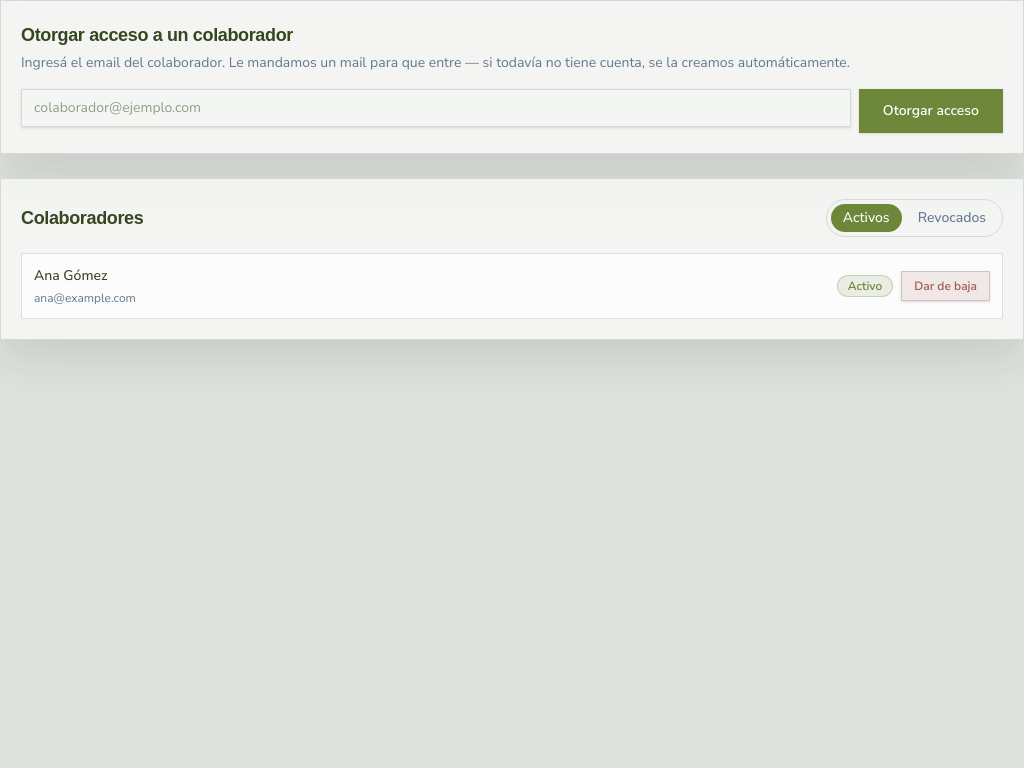
Test case: TeamSection (KAN-306) › un error al revocar se muestra en la fila sin romper el resto de la lista
Click the button "Dar de baja".
click(946, 286)  # box [901, 271, 990, 301]
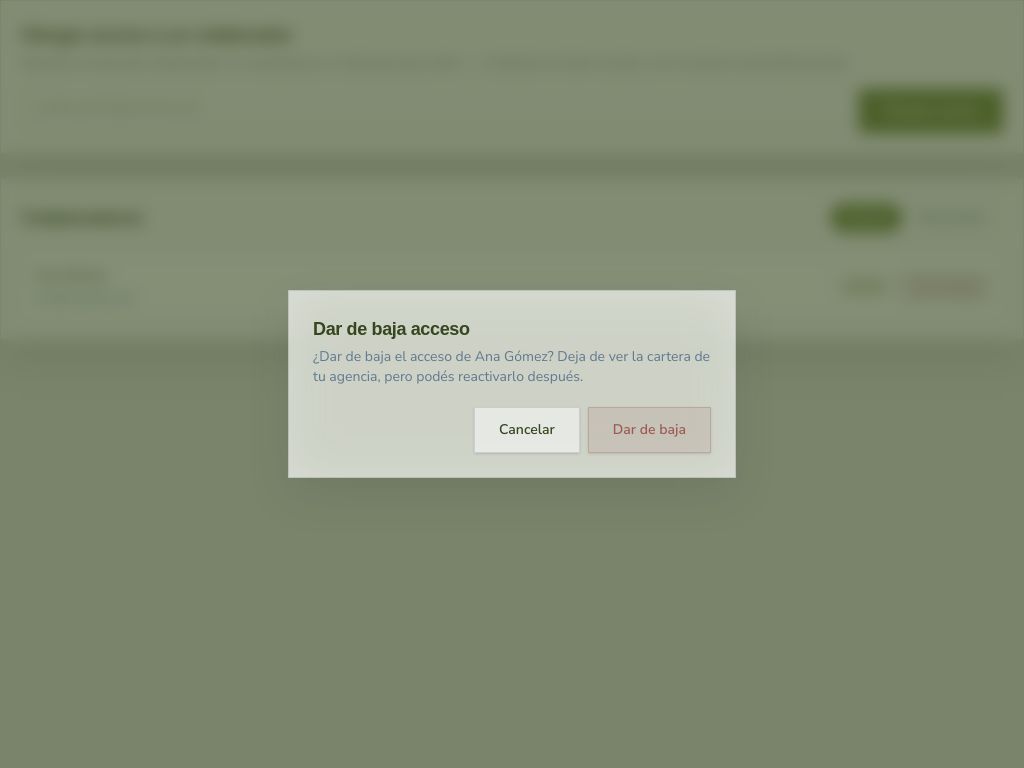
Click the button "Dar de baja".
click(649, 430)  # box [588, 407, 711, 453]
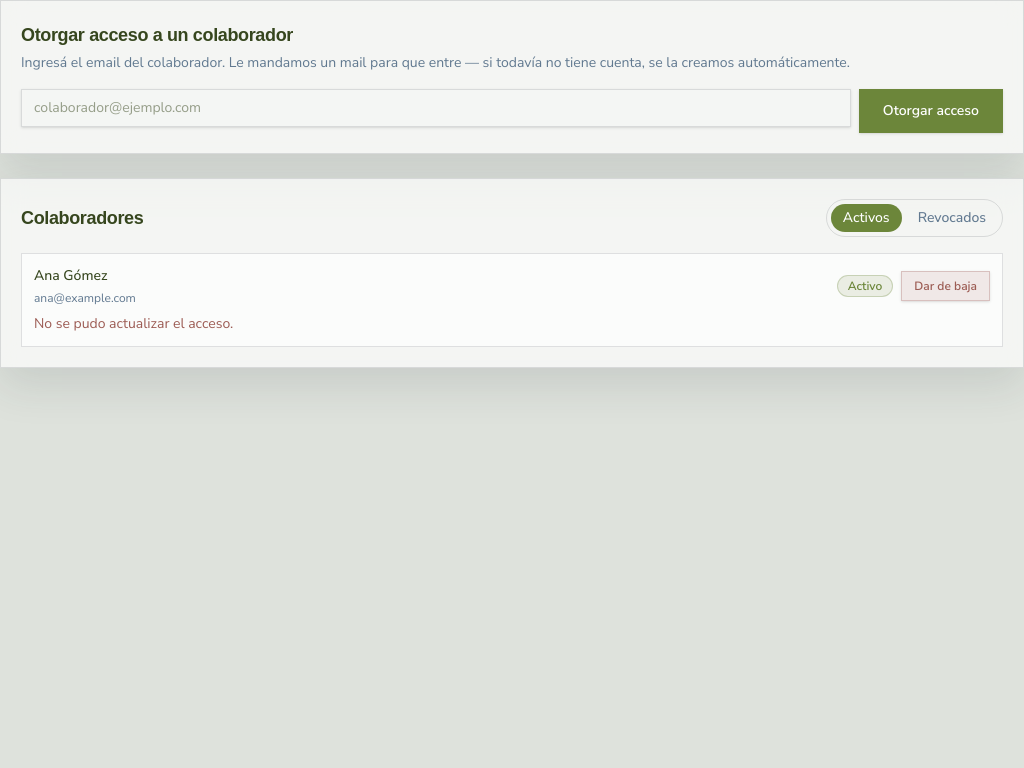
Expected: the text "Ana Gómez" is shown, [34, 266, 107, 285]
Result: the text "No se pudo actualizar el acceso." is shown at [34, 314, 233, 333]
